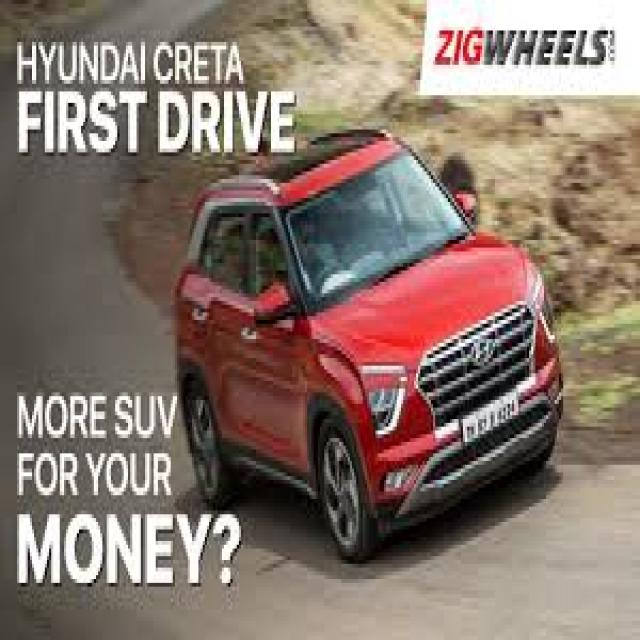SUV: (174, 124, 569, 559)
